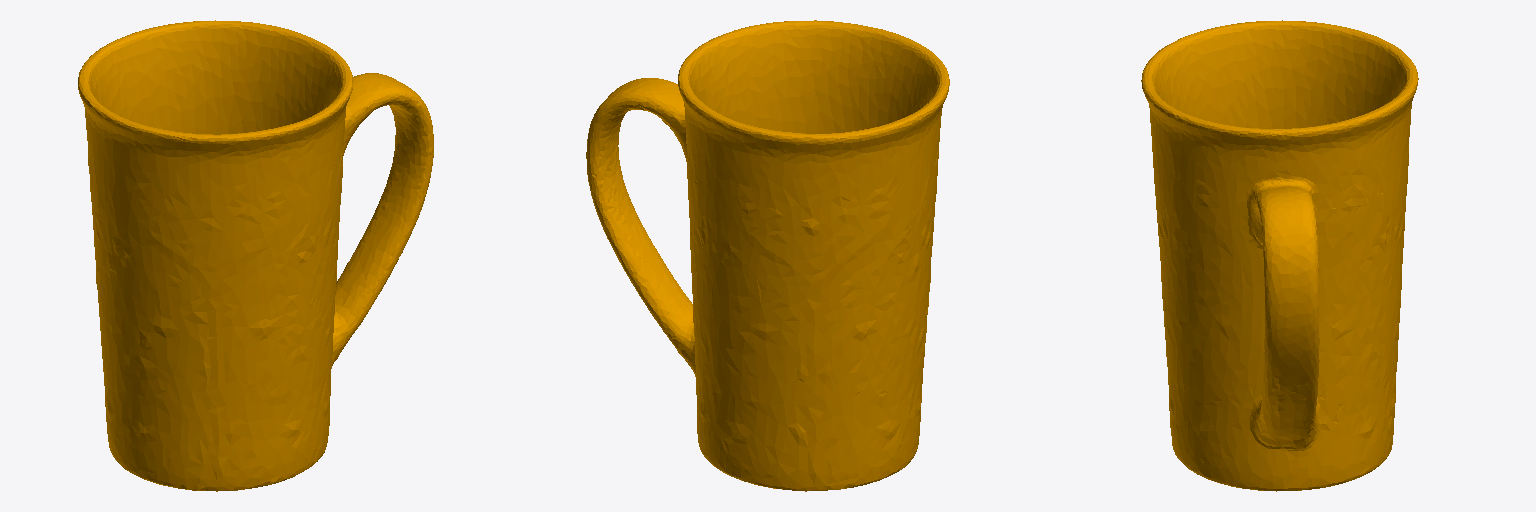
URDF robot description (red_coffee_mug):
<?xml version="1.0"?>
<!-- GENERATED by tasks/libero/build_env/build_object_urdf.py. Do not hand edit.

     LIBERO object `red_coffee_mug`, spawnable by the TRO-MP env.
     Role: graspable target object (envs/), one of the 22 LIBERO target assets.

     WHY a URDF when envs/red_coffee_mug/ may also hold a USD: this env spawns objects
     only through `assets.object_urdf` (scene_utils.py:1929, which calls
     _convert_urdf_to_usd at :1964). The assets dataclass declares no USD field,
     so a ready-made USD cannot be handed to this code path.

     Mesh coordinates are PRESERVED, not re-centred: 11 of 22 LIBERO envs have
     their mesh origin at the object's base, and `goal_traj` tracks that origin.
     Re-centring would offset the object from its own trajectory every frame.

     Mass: density 800.0 kg/m^3 x mesh volume 1.941828e-04 m^3
     Inertia: solid-box approximation about the COM at that mass, NOT the true
     mesh inertia tensor. Adequate for a graspable tabletop object; revisit if
     spin dynamics matter.

     Collision: the full mesh, decomposed by Isaac's URDF importer. The convex
     decomposition authored in the DexVerse USD is NOT reproduced here.
-->
<robot name="red_coffee_mug">
  <link name="red_coffee_mug">
    <inertial>
      <origin xyz="-0.012157 -0.000375 0.062532" rpy="0 0 0"/>
      <mass value="0.155346"/>
      <inertia ixx="3.420262e-04" ixy="0" ixz="0" iyy="4.422833e-04" iyz="0" izz="3.128926e-04"/>
    </inertial>
    <visual>
      <origin xyz="0 0 0" rpy="0 0 0"/>
      <geometry><mesh filename="red_coffee_mug.obj" scale="1 1 1"/></geometry>
    </visual>
    <collision>
      <origin xyz="0 0 0" rpy="0 0 0"/>
      <geometry><mesh filename="red_coffee_mug.obj" scale="1 1 1"/></geometry>
    </collision>
  </link>
</robot>

--- Render facts (derived) ---
The picture shows the robot from 3 angles, left to right: view 1: azimuth 30°, elevation 25°; view 2: azimuth 150°, elevation 25°; view 3: azimuth 270°, elevation 25°; orthographic projection.
Robot: red_coffee_mug — 1 links, 0 joints (none); root link red_coffee_mug; default pose: every joint at zero.
Visible links, largest first — view 1: red_coffee_mug; view 2: red_coffee_mug; view 3: red_coffee_mug.
Boxes of the visible links, left/top/right/bottom form: red_coffee_mug: left=78, top=20, right=433, bottom=491; red_coffee_mug: left=586, top=20, right=949, bottom=491; red_coffee_mug: left=1141, top=20, right=1418, bottom=491.
Size in the robot's own frame: 0.1263 by 0.0906 by 0.1349 metres.
1 mesh visuals loaded from 1 distinct referenced files (1 OBJ).
